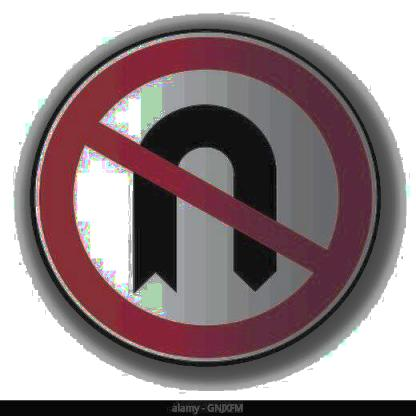No U-turn: (26, 14, 388, 372)
